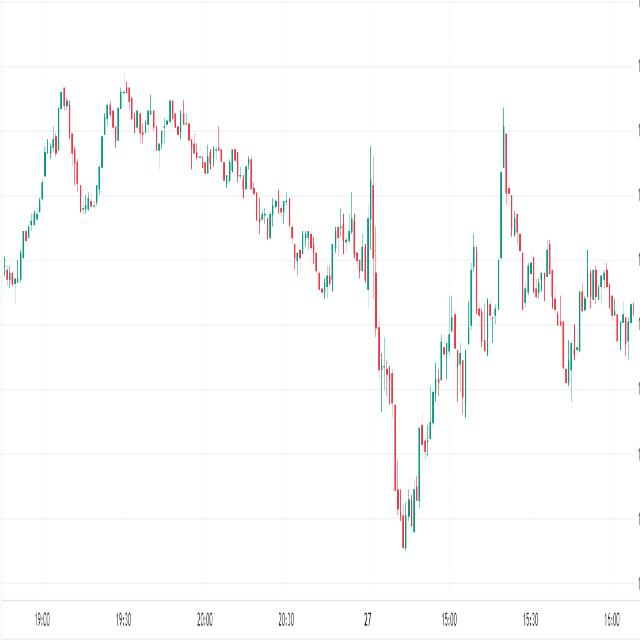Triangle: (411, 0, 640, 574), (28, 25, 205, 328)
